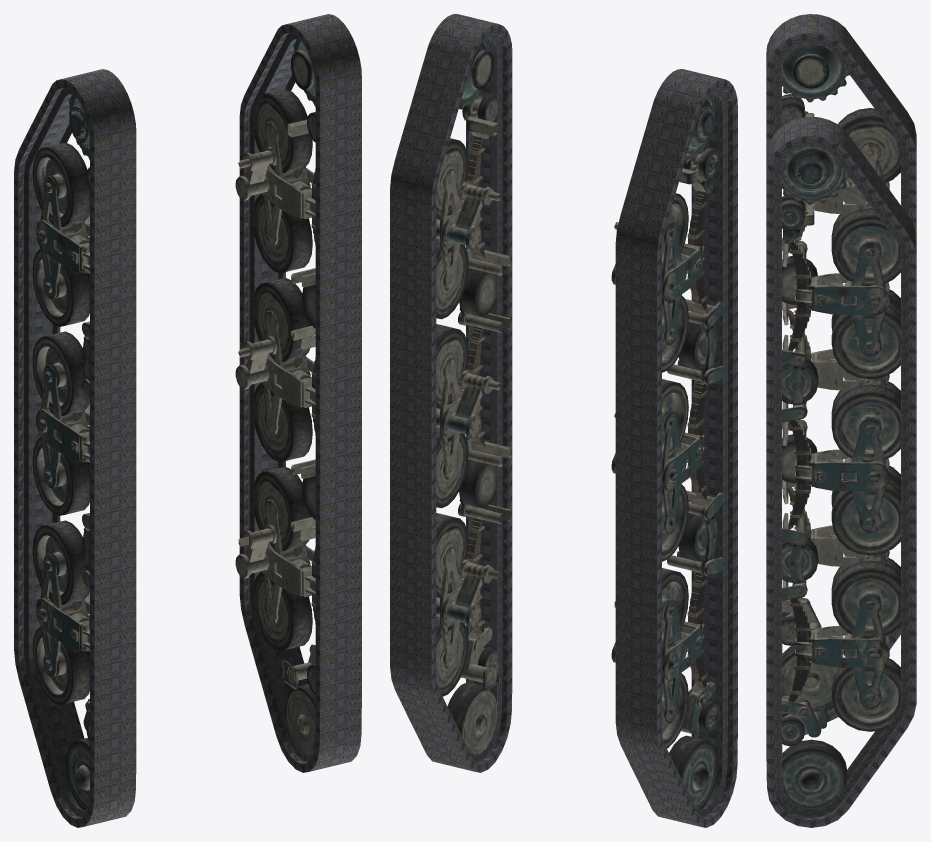
The model's file is Chassis.glb.
3 renders of one model, left to right at view 1: azimuth 30°, elevation 25°; view 2: azimuth 150°, elevation 25°; view 3: azimuth 270°, elevation 25°, orthographic. The views are drawn at different scales.
Visible parts, largest first — view 1: set_0_group_0, set_1_group_0, set_3_group_0, set_2_group_0; view 2: set_0_group_0, set_1_group_0, set_3_group_0, set_2_group_0; view 3: set_3_group_0, set_1_group_0, set_2_group_0, set_0_group_0.
Part boxes in pixels (box(x1,y1,x2,y2)): set_0_group_0: box(14, 69, 136, 827); set_1_group_0: box(239, 14, 361, 772); set_3_group_0: box(235, 39, 315, 754); set_2_group_0: box(32, 94, 89, 809); set_0_group_0: box(615, 69, 737, 827); set_1_group_0: box(390, 14, 512, 772); set_3_group_0: box(436, 39, 511, 754); set_2_group_0: box(611, 94, 722, 809); set_3_group_0: box(782, 147, 900, 810); set_1_group_0: box(766, 116, 916, 827); set_2_group_0: box(782, 44, 900, 707); set_0_group_0: box(766, 14, 916, 722).
Size of the model in its own units: 1.53 by 4.07 by 0.8011.
Materials: 4 (4 with a texture image).
